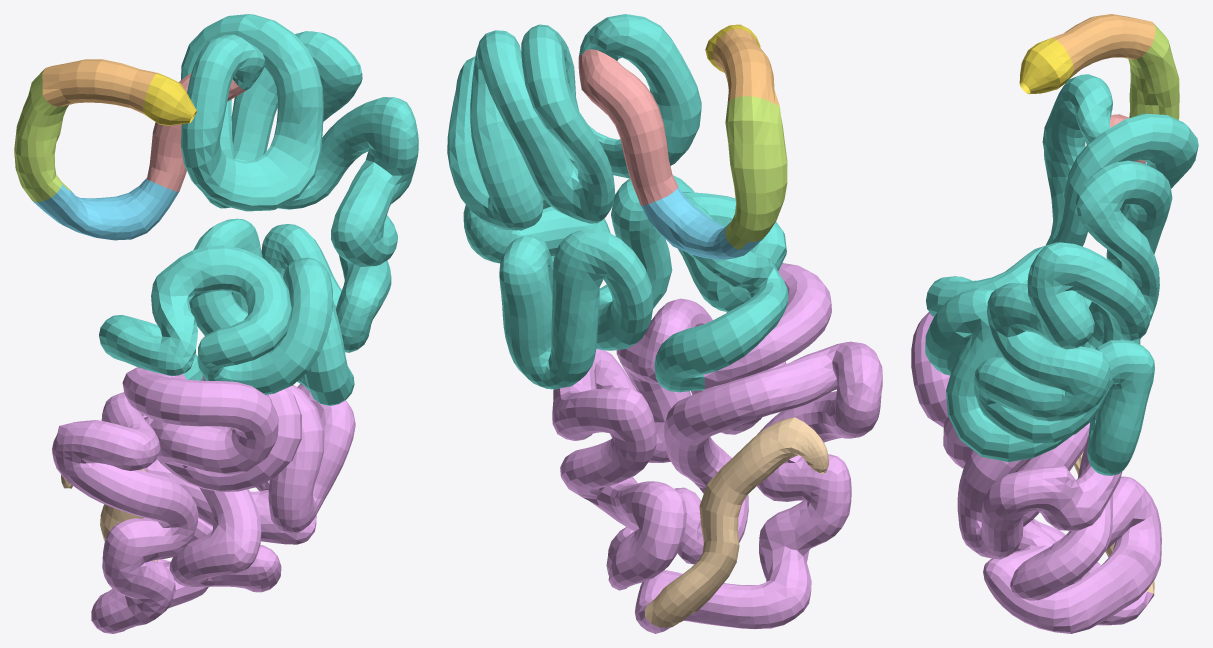
The model's file is organ-small-intestine.glb.
The picture shows the model from 3 angles, left to right: view 1: azimuth 30°, elevation 25°; view 2: azimuth 150°, elevation 25°; view 3: azimuth 270°, elevation 25°; orthographic projection. The views are drawn at different scales.
Visible parts, largest first — view 1: jejunum, ileum, duodenum-horizontal, duodenum-superior, duodenum-descending, duodenum-ascending, duodenal-ampulla, ileum-terminal; view 2: jejunum, ileum, ileum-terminal, duodenum-descending, duodenum-ascending, duodenum-horizontal, duodenum-superior; view 3: jejunum, ileum, duodenum-superior, duodenum-descending, duodenal-ampulla.
Boxes of the visible parts, box(x1,y1,x2,y2) form: jejunum: box(99, 14, 418, 405); ileum: box(52, 367, 355, 633); duodenum-horizontal: box(33, 178, 178, 240); duodenum-superior: box(42, 59, 157, 113); duodenum-descending: box(14, 69, 70, 202); duodenum-ascending: box(147, 73, 246, 191); duodenal-ampulla: box(143, 73, 196, 125); ileum-terminal: box(61, 469, 157, 561); jejunum: box(447, 14, 788, 392); ileum: box(552, 263, 882, 633); ileum-terminal: box(644, 417, 828, 627); duodenum-descending: box(725, 96, 787, 249); duodenum-ascending: box(578, 49, 678, 205); duodenum-horizontal: box(641, 187, 762, 259); duodenum-superior: box(713, 29, 779, 105); jejunum: box(925, 74, 1198, 475); ileum: box(911, 312, 1161, 633); duodenum-superior: box(1052, 14, 1155, 77); duodenum-descending: box(1128, 23, 1179, 119); duodenal-ampulla: box(1019, 38, 1074, 94).
Size of the model in its own units: 0.188 by 0.2654 by 0.1222.
